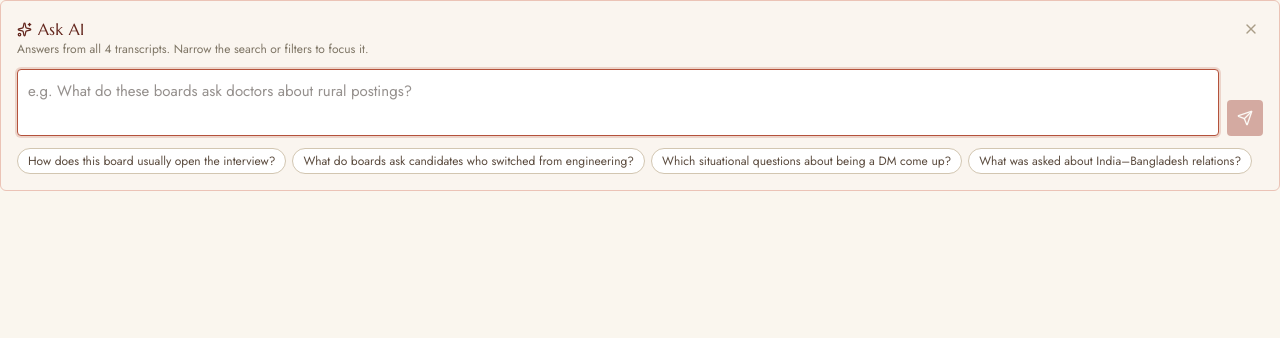
Test: shows progress, can be stopped, and ignores aborts
The width and height of the screenshot is (1280, 338).
Type "Long question?" into the text box.
click(618, 102); type("Long question?")  # box [17,69,1219,136]
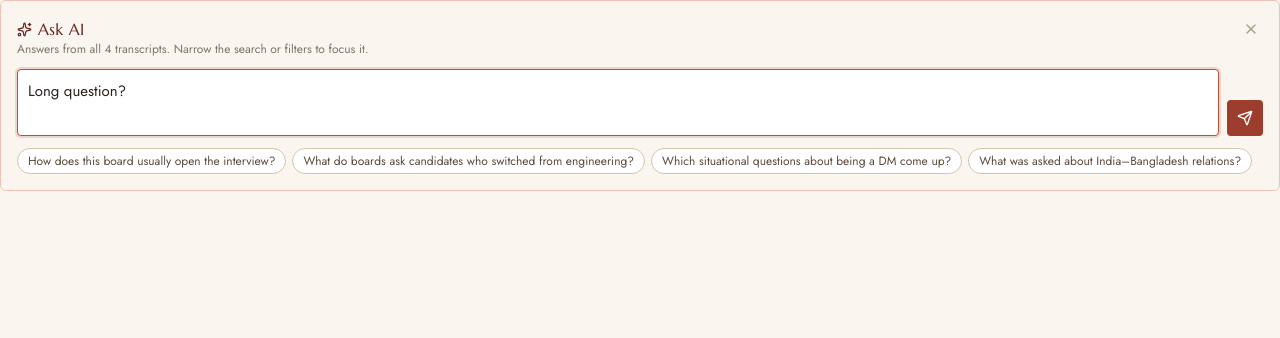
Click the button named "Ask".
click(1245, 118)  # box [1227,100,1263,136]
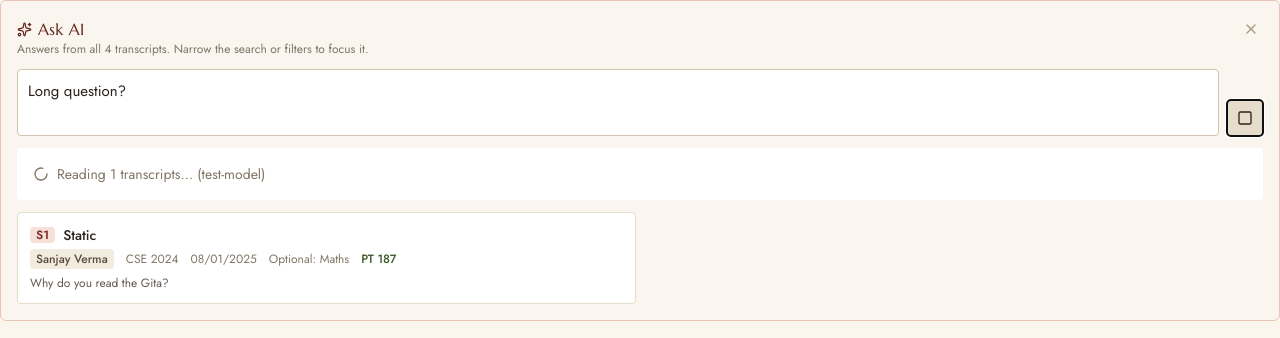
Expected: the text "Reading 1 transcripts… (test-model)" is shown, [33,164,265,184]
Click the button named "Stop".
click(1245, 118)  # box [1227,100,1263,136]
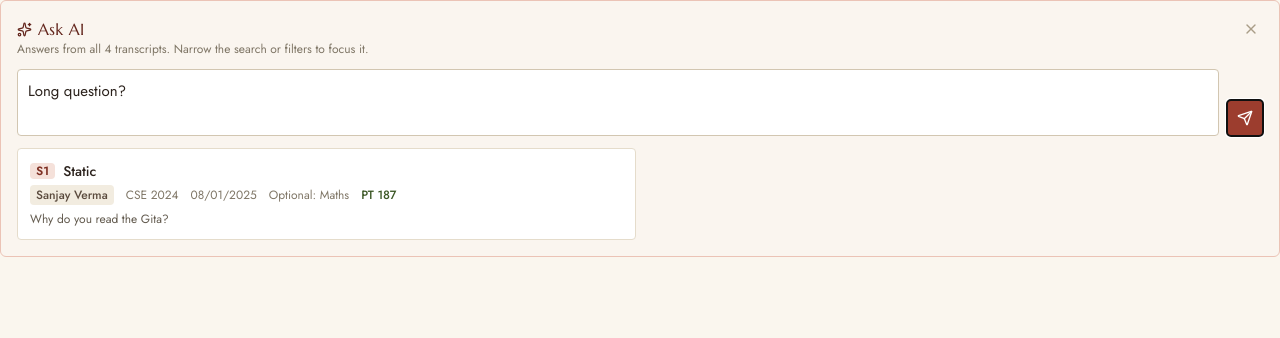
Expected: the button named "Ask" is shown, [1227,100,1263,136]
